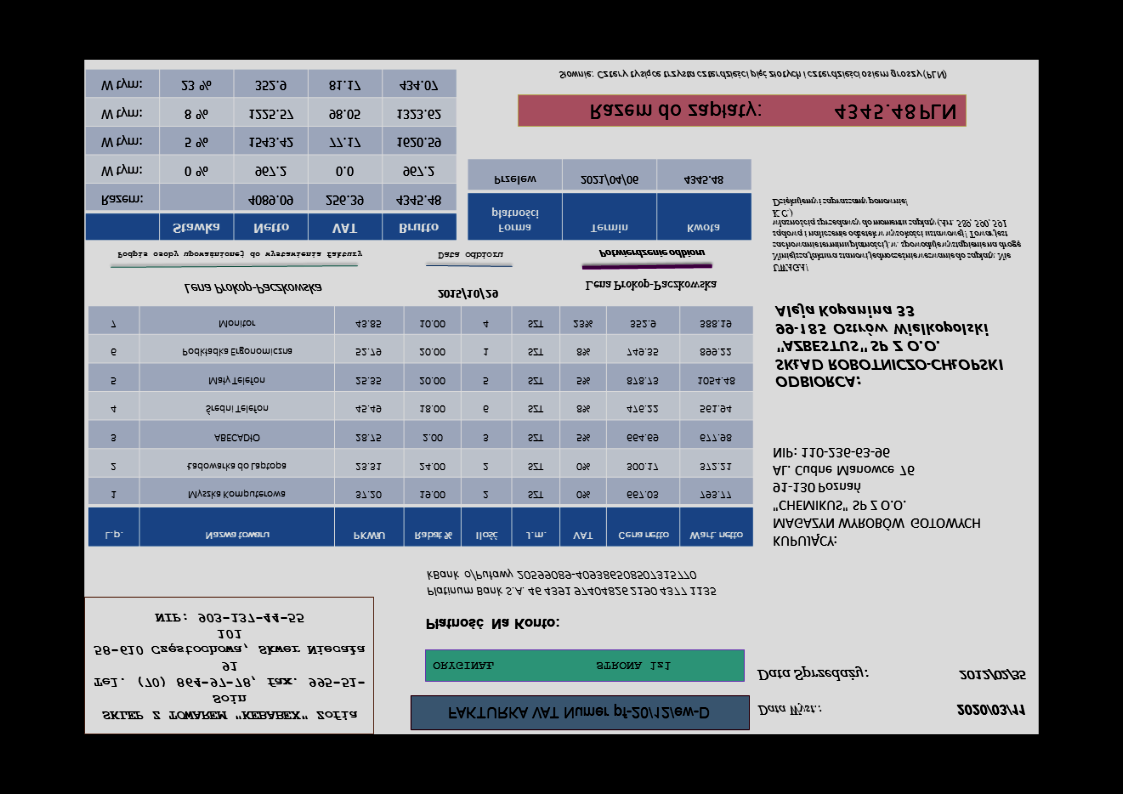Table: (86, 304, 755, 547), (85, 67, 458, 241), (467, 158, 753, 241)
TextBox: (89, 612, 368, 723), (770, 445, 984, 551), (774, 302, 1005, 390), (770, 195, 1024, 275), (423, 568, 718, 599), (589, 99, 957, 122), (445, 702, 713, 723), (558, 68, 950, 82), (432, 659, 674, 673), (115, 249, 364, 260), (182, 280, 324, 297), (424, 615, 562, 632), (582, 278, 717, 294), (756, 665, 871, 683), (597, 247, 706, 261), (957, 667, 1027, 683), (955, 702, 1027, 717), (757, 702, 823, 718), (436, 286, 500, 302), (436, 249, 504, 262)
